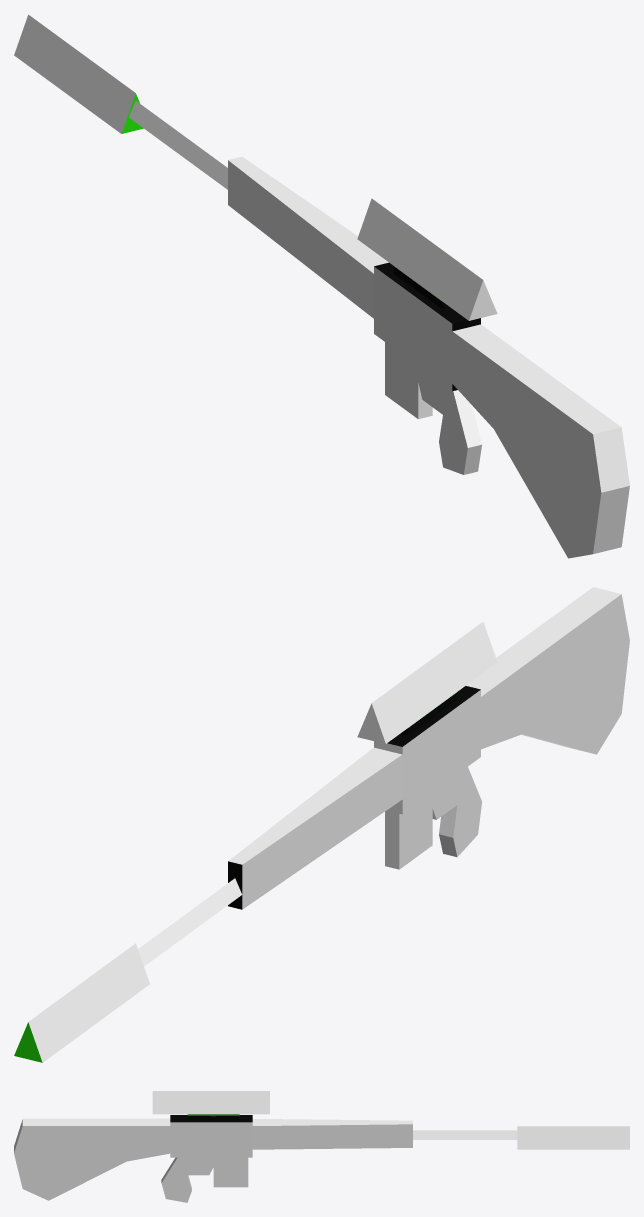
3 renders of one model, top to bottom at view 1: azimuth 30°, elevation 25°; view 2: azimuth 150°, elevation 25°; view 3: azimuth 270°, elevation 25°, orthographic. The views are drawn at different scales.
Parts seen in each view (by area): view 1: prim172-Line09; view 2: prim172-Line09; view 3: prim172-Line09.
Part boxes in pixels (box(x1,y1,x2,y2)): prim172-Line09: box(14, 14, 629, 558); prim172-Line09: box(14, 587, 629, 1062); prim172-Line09: box(14, 1091, 629, 1202).
Bounding box in the file's own units: 4 × 28 × 142.
Materials: 5 (1 with a texture image).
